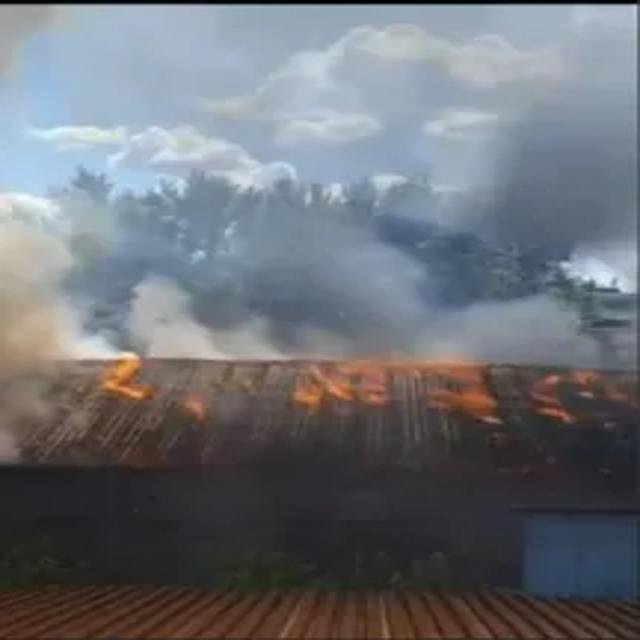Smoke: (452, 10, 640, 252), (306, 255, 604, 364), (0, 7, 66, 416), (128, 258, 286, 367)
